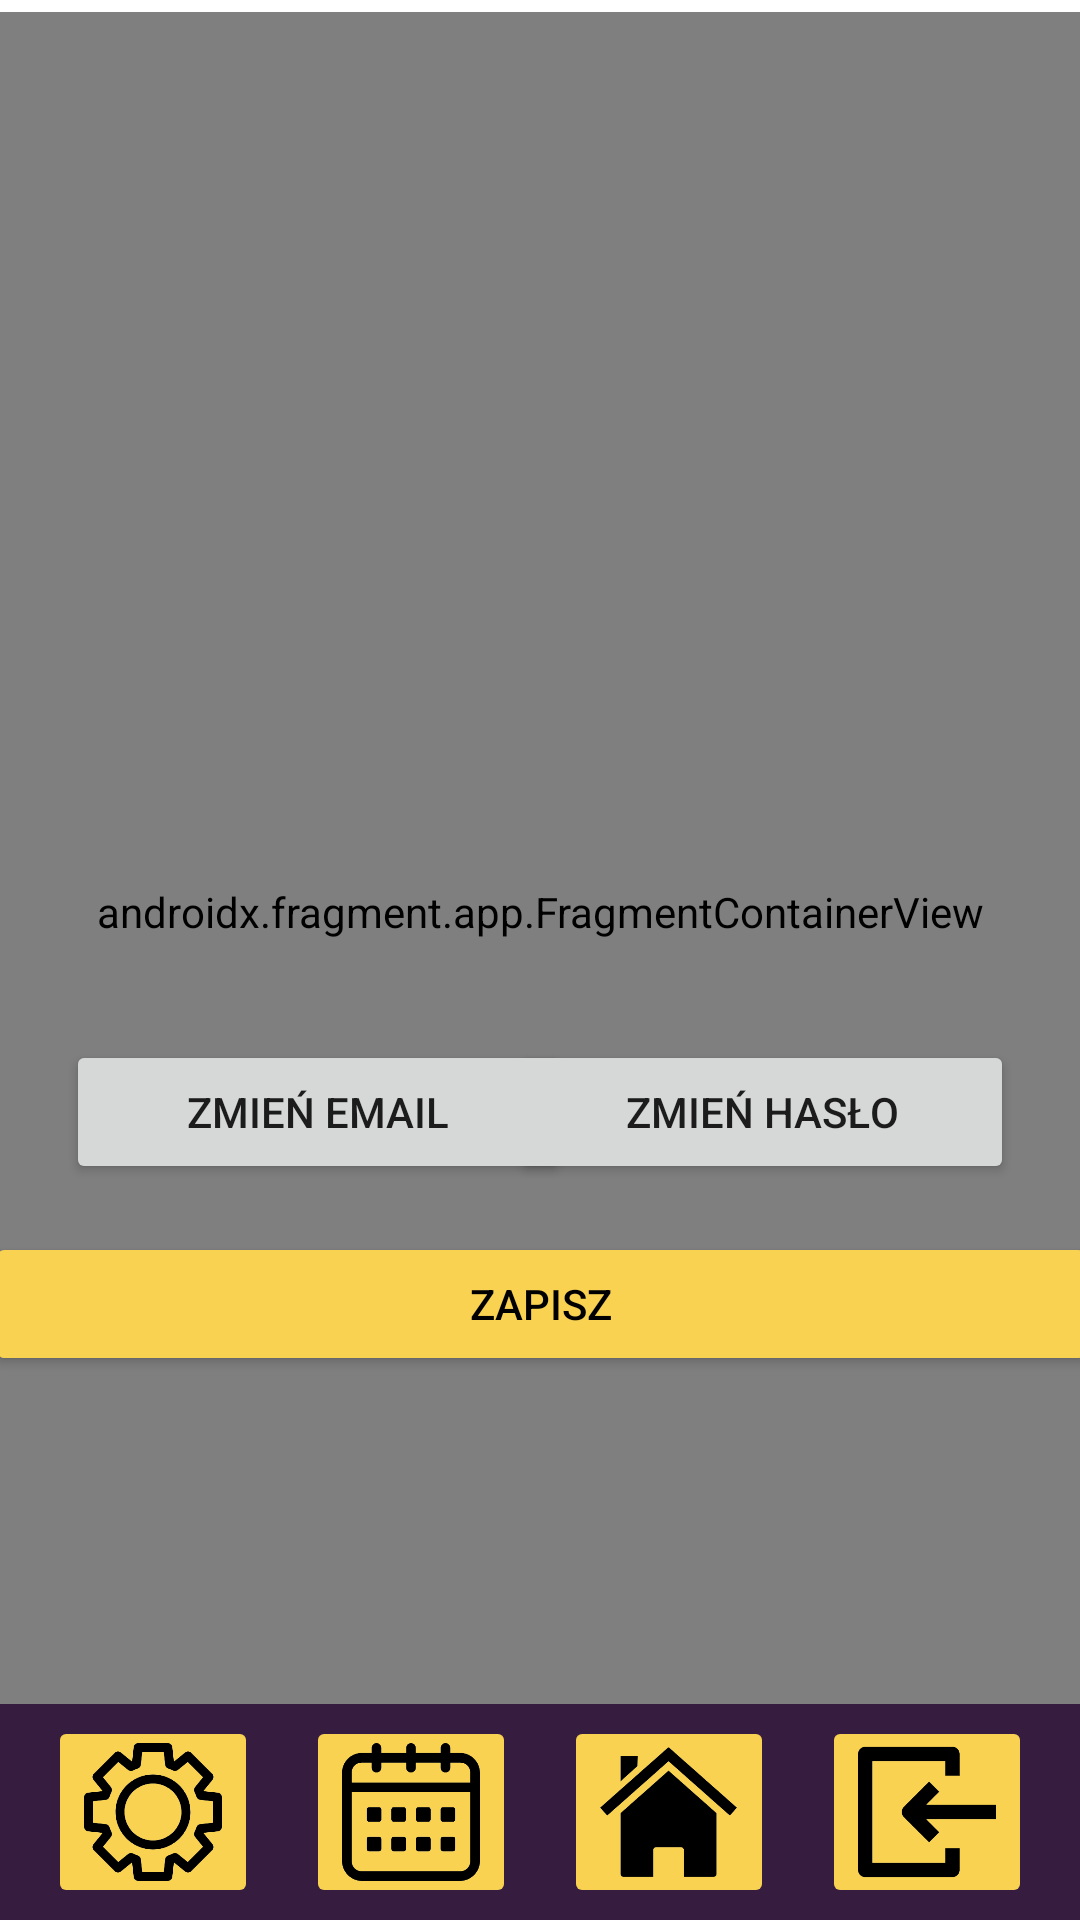

Point at icon controls on the screen. Image size 1080px x 1920px, points as (x=x, y=y).
calendar: (x=411, y=1812)
home: (x=669, y=1812)
settings: (x=153, y=1812)
